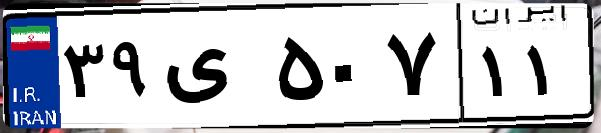0: (330, 28, 385, 110)
1: (475, 38, 525, 113), (525, 38, 570, 115)
3: (57, 26, 110, 100)
5: (270, 28, 330, 110)
7: (385, 28, 445, 110)
9: (110, 28, 158, 98)
ی: (158, 20, 270, 120)
